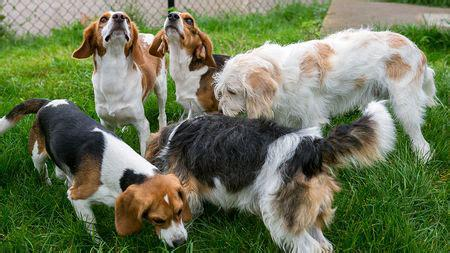dog: (145, 103, 393, 253), (1, 98, 191, 248), (216, 29, 432, 159), (73, 11, 167, 154), (149, 11, 231, 117)
